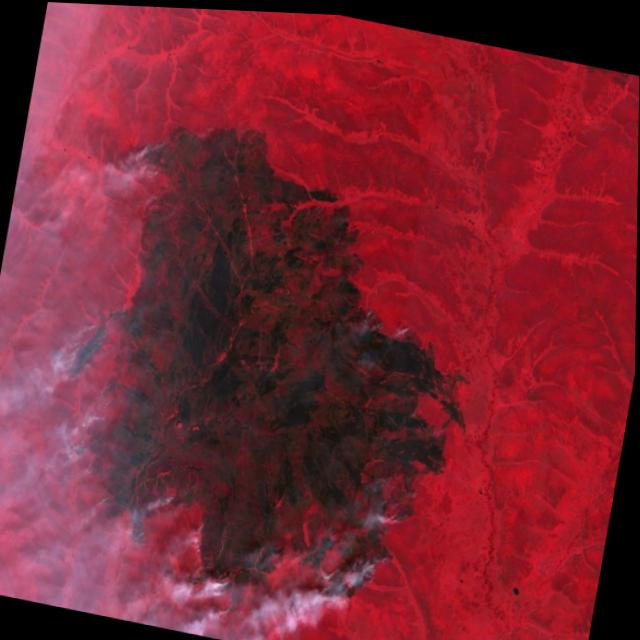fire: (17, 294, 445, 640), (120, 116, 192, 202), (355, 287, 394, 340)
